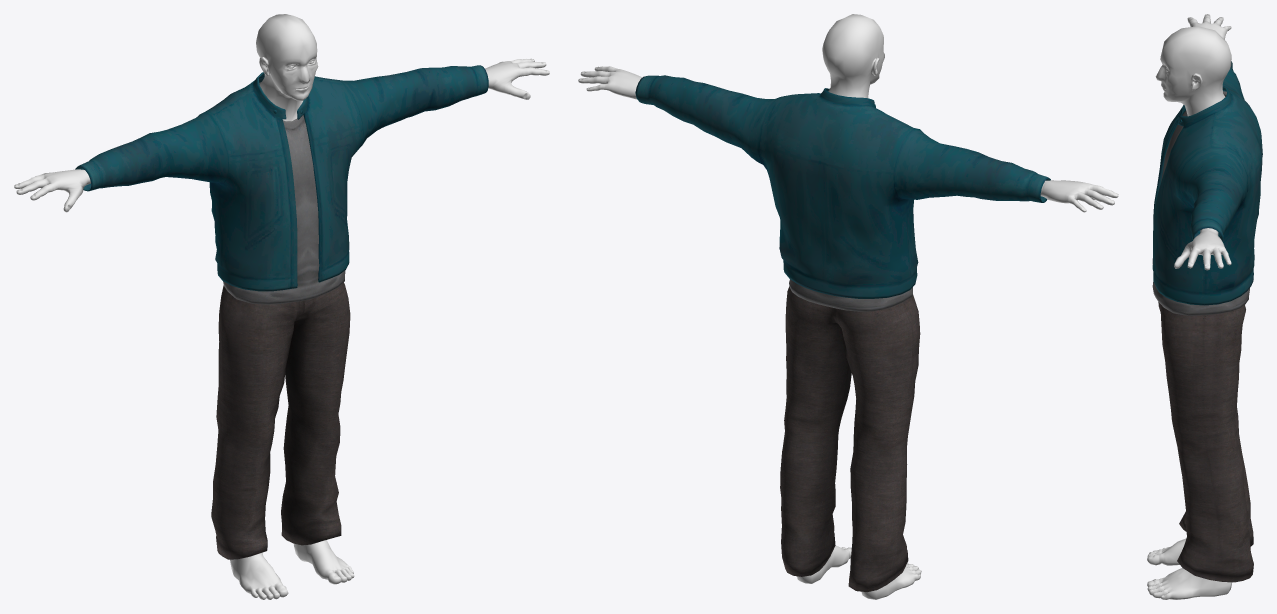
Rendered from Body_With_Pants_T-short_Jacket_V2.gltf.
The picture shows the model from 3 angles, left to right: view 1: azimuth 30°, elevation 25°; view 2: azimuth 150°, elevation 25°; view 3: azimuth 270°, elevation 25°; orthographic projection. The views are drawn at different scales.
Parts seen in each view (by area): view 1: Jacket, Pants, BaseMesh_Man_Simple_Body.001, t-short; view 2: Jacket, Pants, BaseMesh_Man_Simple_Body.001, t-short; view 3: Pants, Jacket, BaseMesh_Man_Simple_Body.001, t-short.
Boxes of the visible parts, bbox=[...] form: Jacket: bbox=[75, 65, 488, 291]; Pants: bbox=[211, 282, 350, 559]; BaseMesh_Man_Simple_Body.001: bbox=[14, 14, 549, 599]; t-short: bbox=[223, 82, 345, 304]; Jacket: bbox=[635, 75, 1050, 298]; Pants: bbox=[780, 286, 920, 592]; BaseMesh_Man_Simple_Body.001: bbox=[578, 14, 1118, 599]; t-short: bbox=[789, 279, 912, 311]; Pants: bbox=[1158, 302, 1253, 582]; Jacket: bbox=[1152, 61, 1262, 305]; BaseMesh_Man_Simple_Body.001: bbox=[1147, 14, 1232, 599]; t-short: bbox=[1152, 91, 1249, 315].
Size of the model in its own units: 1.8 by 1.81 by 0.3471.
Materials: 4 (3 with a texture image).
